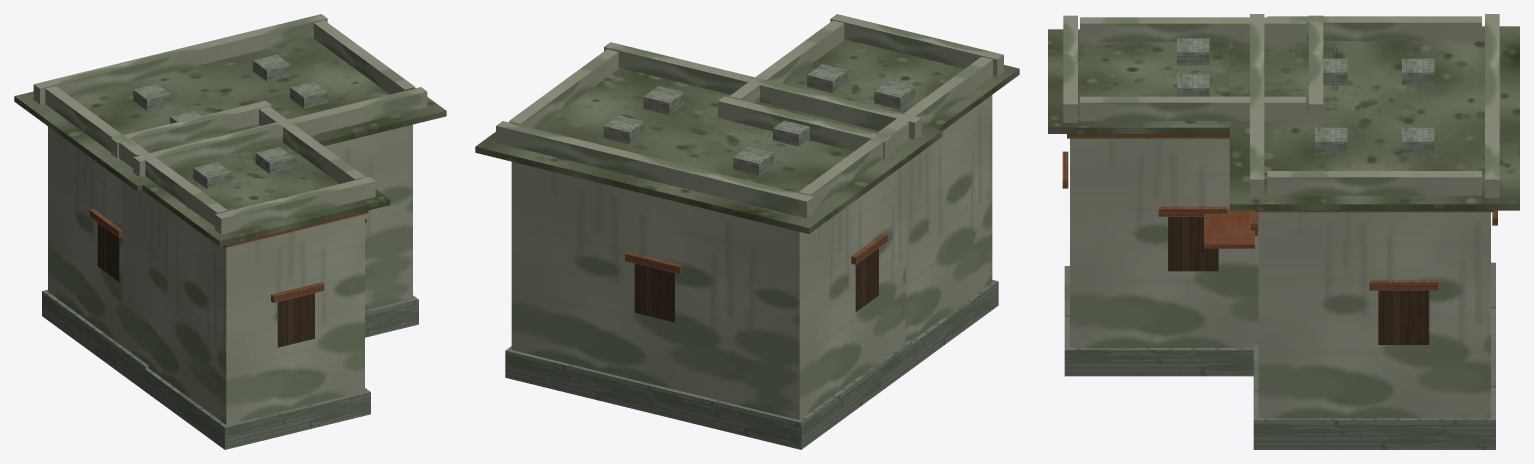
Rendered from ae_jungle_stone_medium_court_lod1.glb.
3 renders of one model, left to right at view 1: azimuth 30°, elevation 25°; view 2: azimuth 150°, elevation 25°; view 3: azimuth 270°, elevation 25°, orthographic. The views are drawn at different scales.
Parts seen in each view (by area): view 1: ae_jungle_stone_medium_court_lod1; view 2: ae_jungle_stone_medium_court_lod1; view 3: ae_jungle_stone_medium_court_lod1.
Boxes of the visible parts, <box> form: ae_jungle_stone_medium_court_lod1: <box>14,14,446,449</box>; ae_jungle_stone_medium_court_lod1: <box>475,14,1019,449</box>; ae_jungle_stone_medium_court_lod1: <box>1048,14,1519,449</box>.
Bounding box in the file's own units: 5.8 × 4.17 × 6.5.
Materials: 1 (1 with a texture image).
